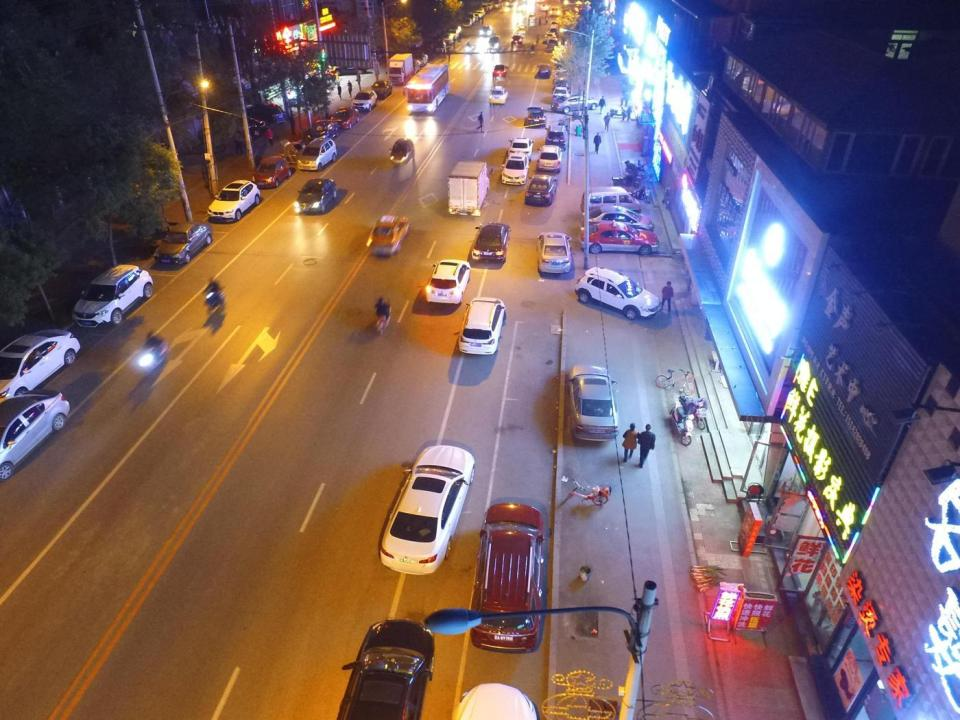bus: (408, 62, 450, 116)
car: (380, 444, 475, 576), (470, 503, 545, 654), (339, 618, 435, 720), (0, 389, 71, 477), (2, 328, 82, 397), (74, 261, 154, 328), (575, 266, 662, 320), (566, 363, 618, 443), (457, 297, 506, 357), (578, 220, 660, 255), (208, 180, 262, 221), (156, 222, 211, 262), (365, 213, 411, 258), (425, 259, 469, 305), (292, 176, 339, 218), (583, 205, 651, 233), (534, 232, 571, 275), (473, 222, 510, 264), (298, 138, 340, 169), (253, 154, 288, 185), (526, 174, 559, 205), (244, 102, 285, 126), (305, 120, 340, 146), (502, 152, 528, 187), (224, 118, 270, 136), (553, 95, 599, 113), (536, 144, 561, 173), (333, 104, 358, 128), (523, 104, 547, 129), (546, 123, 570, 148), (354, 89, 378, 113), (547, 125, 568, 149), (325, 65, 368, 76), (373, 80, 392, 98), (487, 34, 503, 53), (490, 85, 506, 104), (556, 76, 576, 91), (438, 36, 453, 54), (446, 23, 461, 40), (406, 34, 424, 48), (535, 63, 550, 77), (511, 32, 524, 47), (546, 37, 559, 52), (491, 65, 506, 78), (414, 52, 428, 65), (554, 69, 570, 80), (554, 85, 568, 97)
truck: (444, 159, 492, 217), (389, 52, 415, 88)
van: (582, 186, 638, 214)
